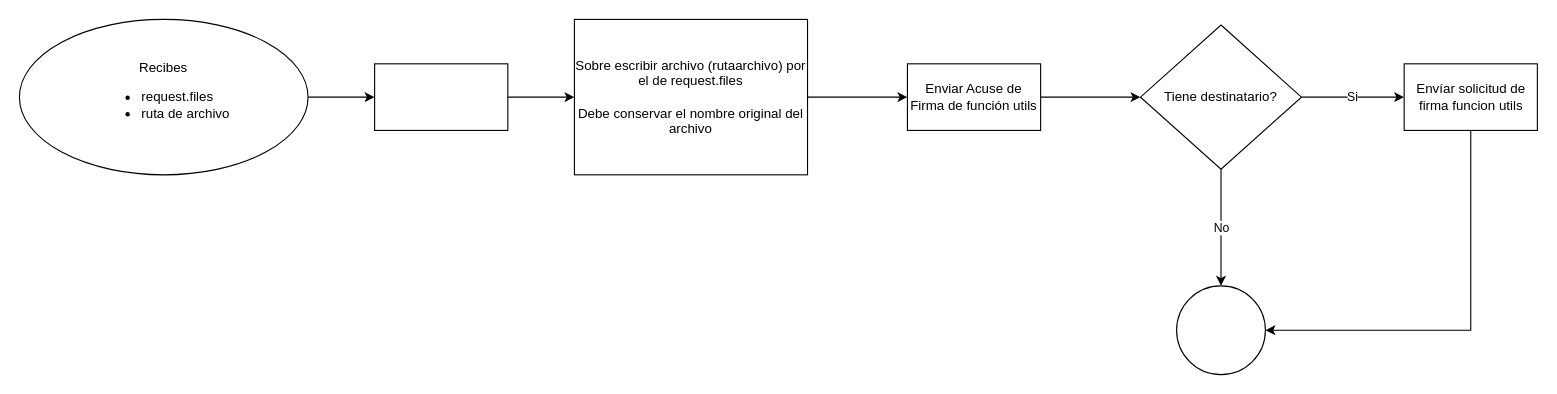
This 1557x394 diagram has some shape labels left out. The shapes that lost their labels are listed below. From the top down, each one's centre as x and y in pixels, then its label:
At (x=441, y=96): "Verificar que archivos sean PDF".
At (x=1220, y=330): "Return True".
